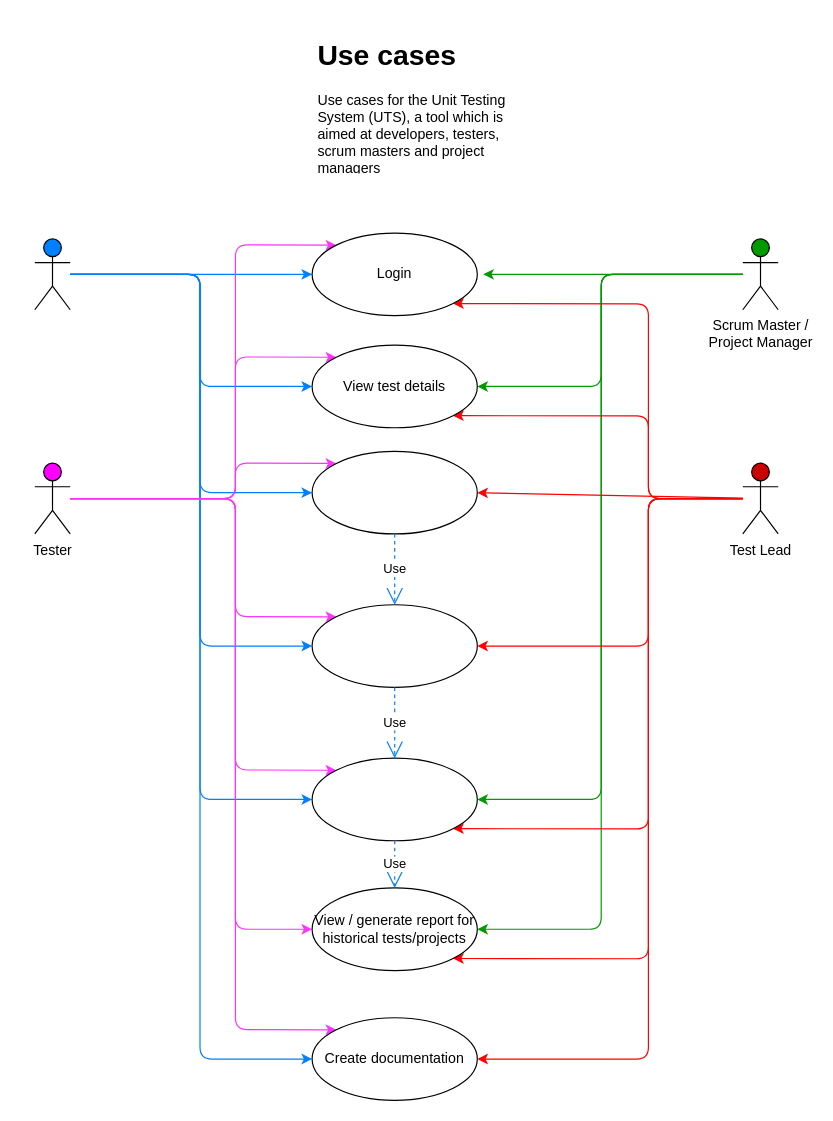
Image size: 833x1121. Some labels were removed from this diagram. Each missing label, with the centre of its shape:
"Create tests" goes at pixel 394 492.
"Developer" goes at pixel 52 274.
"Input / update test results" goes at pixel 394 645.
"View / generate report for current test/project" goes at pixel 394 799.
